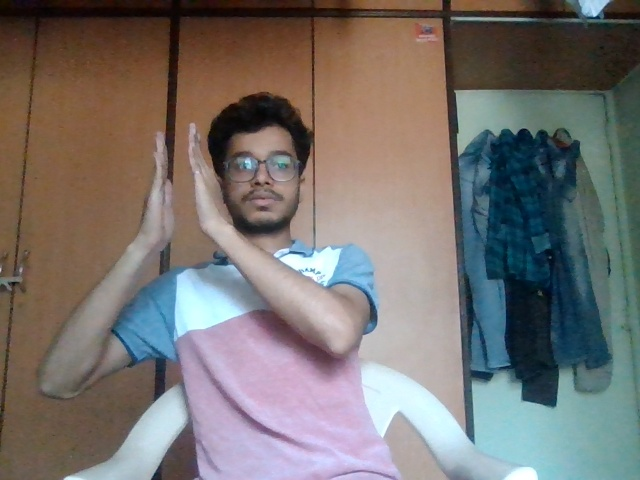morning: (123, 118, 253, 278)
